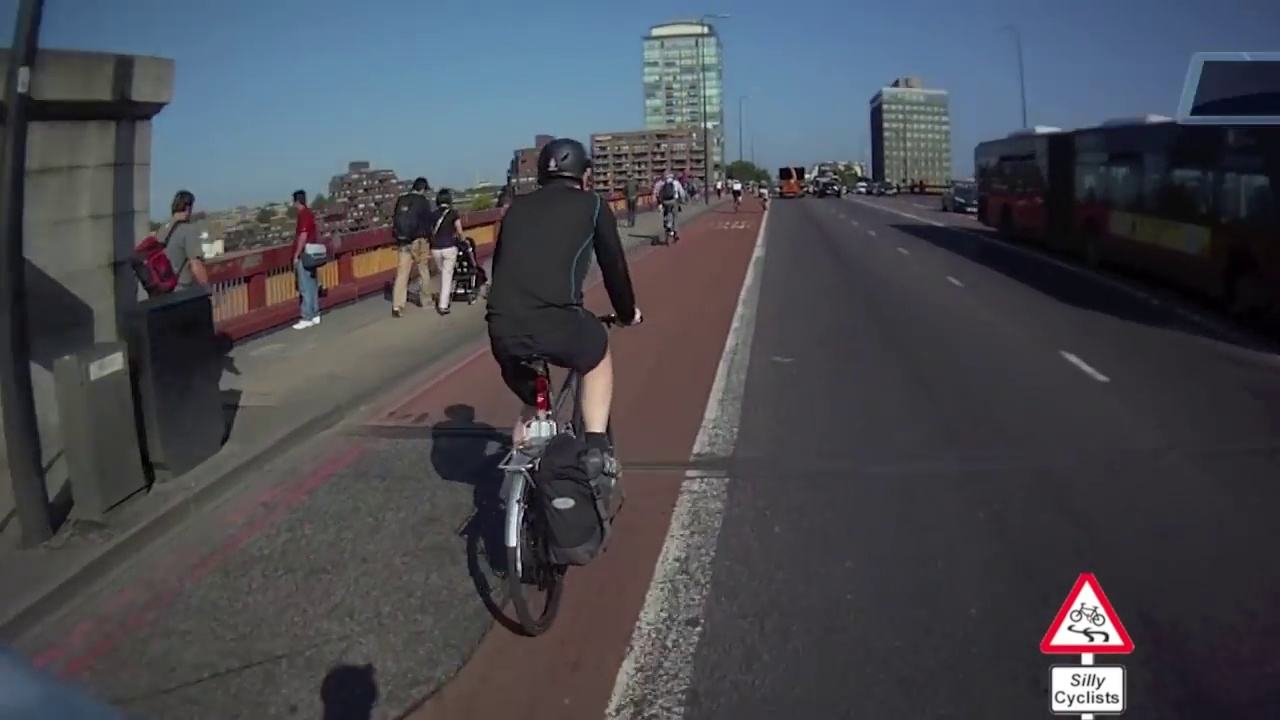cyclist_back: (484, 134, 649, 643), (649, 164, 686, 247)
